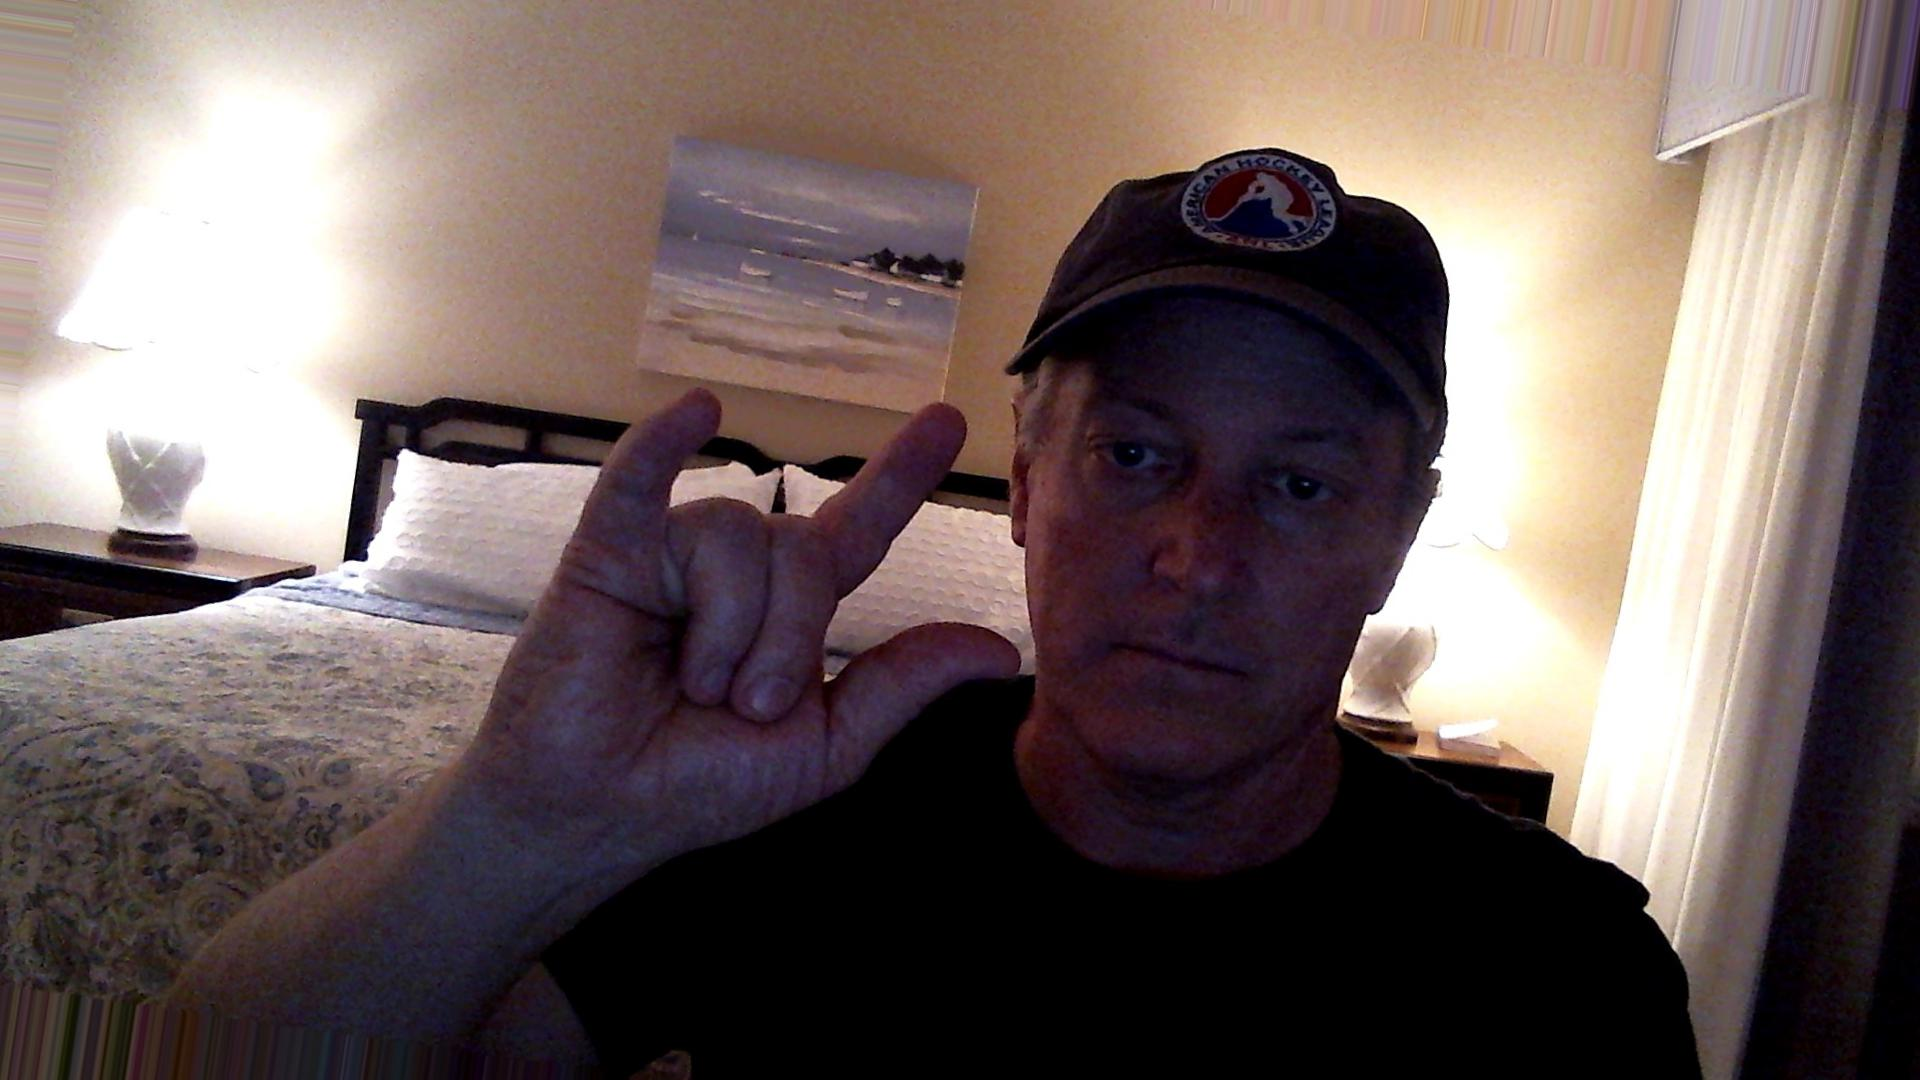I Love You: (480, 365, 1029, 862)
